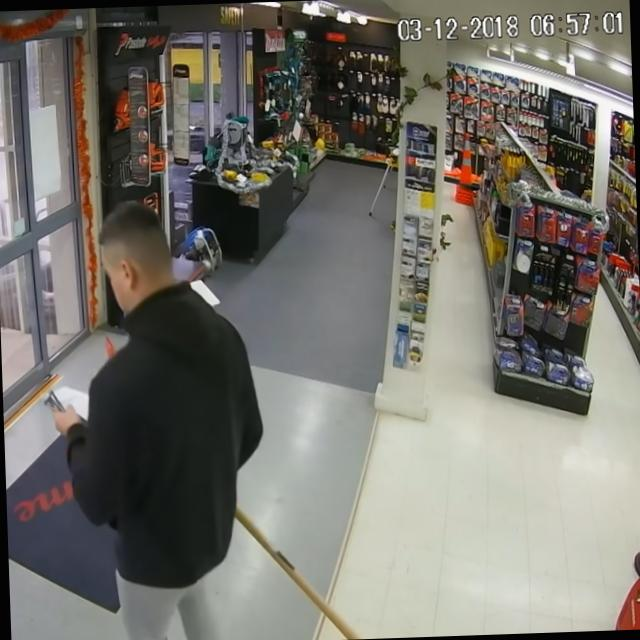person: (43, 198, 270, 640)
